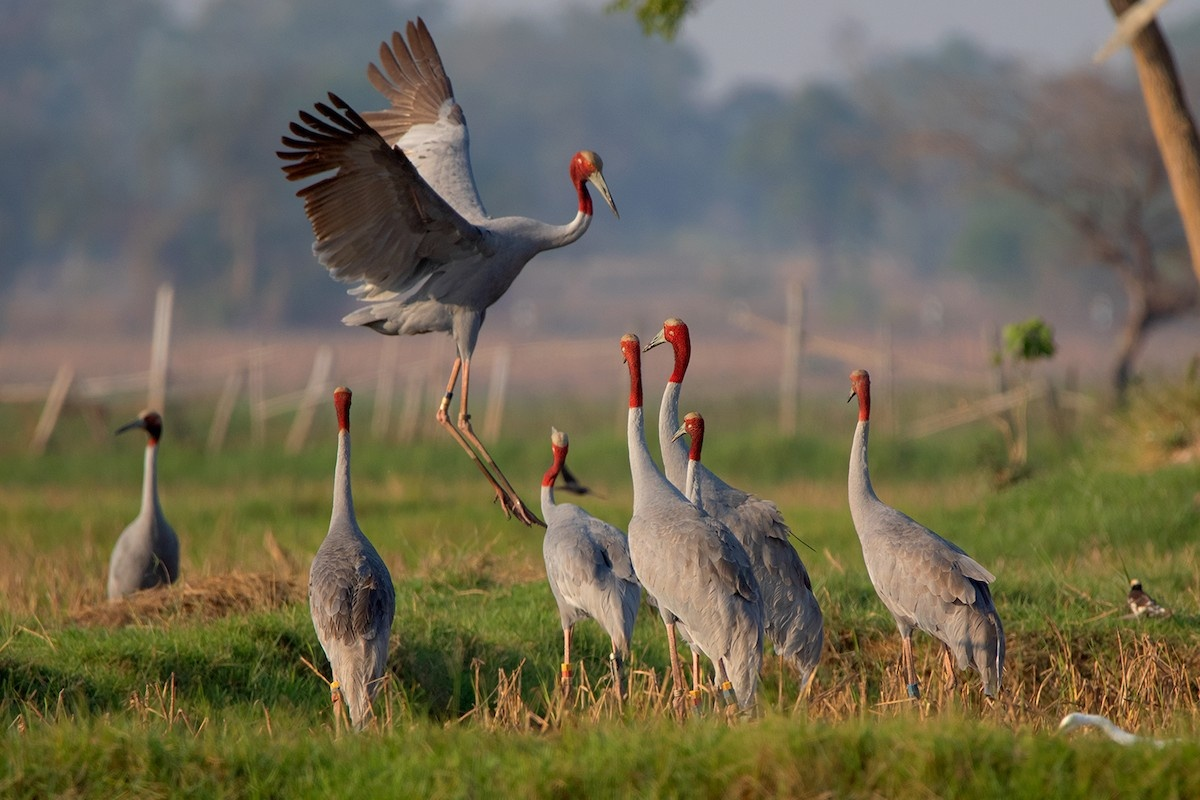crane: (295, 18, 607, 511), (841, 363, 1012, 698), (619, 329, 762, 720), (311, 373, 406, 708), (527, 419, 642, 676), (109, 397, 185, 591), (634, 293, 699, 464), (668, 413, 713, 512)
